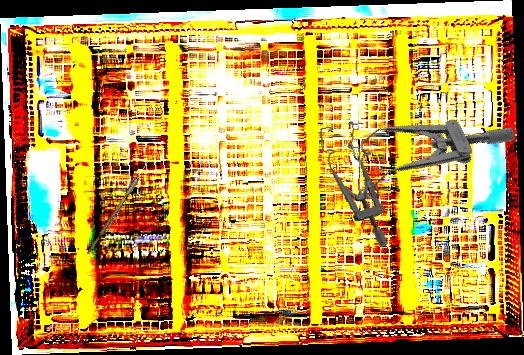Speculum: (331, 72, 519, 217), (318, 118, 390, 253)
Surgical Spoon: (86, 147, 158, 257)
